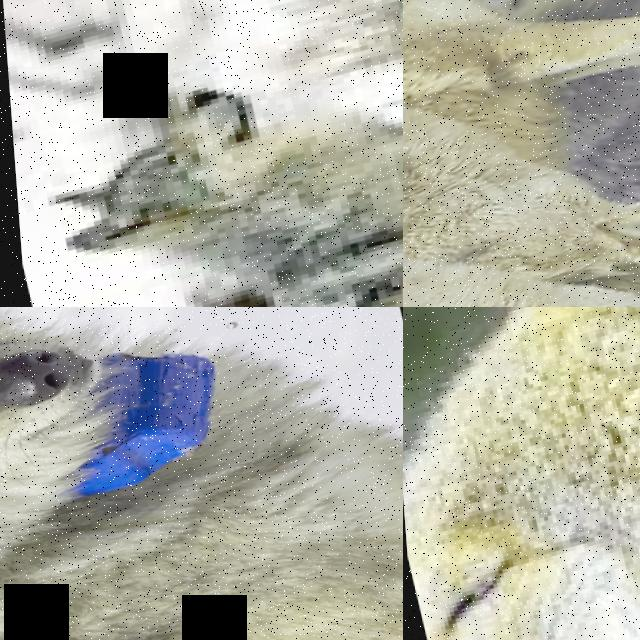wolf: (0, 307, 403, 640), (2, 0, 403, 307), (403, 307, 640, 640), (403, 0, 640, 212), (403, 24, 568, 307), (403, 124, 640, 307), (554, 100, 640, 307)
